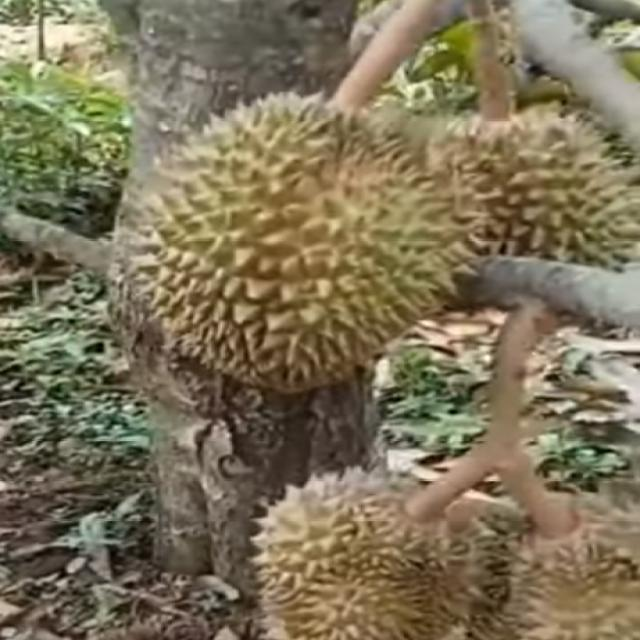mature: (129, 91, 463, 384), (242, 465, 476, 640)
